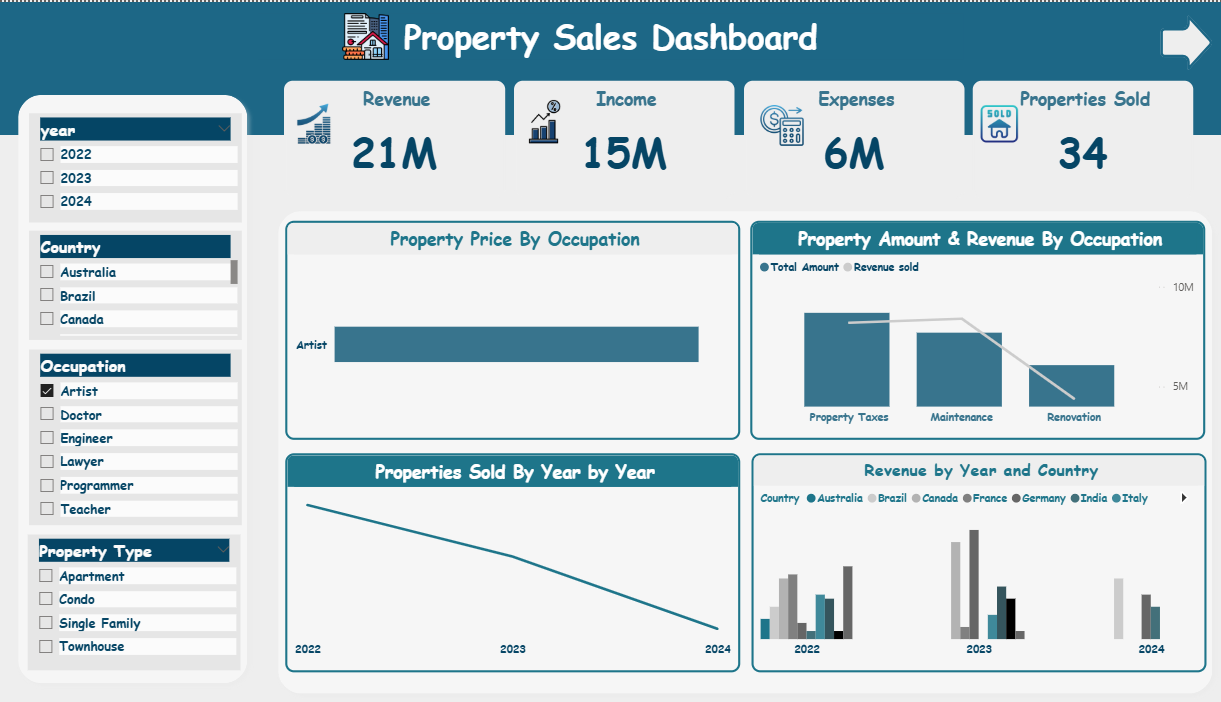

This screenshot's page, from the dashboard's own definition file:
{"tool":"powerbi","page":{"name":"Client & Property Analysis","canvas":[1400,800],"ordinal":3},"visuals":[{"type":"shape","box":[0,0,1399.5,152.2],"z":0},{"type":"textbox","title":"Property Sales Dashboard","box":[292.1,12.2,815.2,53],"z":1000},{"type":"shape","box":[309.8,230.7,1085.6,569.3],"z":2000},{"type":"lineChart","fields":{"Y":["Calculations.Properties Sold By Year"],"Category":["calender2.Date.Variation.Date Hierarchy.Year"]},"box":[327.4,516.3,520.4,250],"z":3000},{"type":"clusteredColumnChart","fields":{"Category":["calender2.Date.Variation.Date Hierarchy.Year"],"Y":["Calculations.Revenue"],"Series":["Property_Table.Country"]},"box":[860.1,516.3,520.4,250],"z":4000},{"type":"lineClusteredColumnComboChart","title":"Property Amount & Revenue By Occupation","fields":{"Y":["Calculations.Total Amount"],"Category":["Expense_Table.ExpenseType"],"Y2":["Calculations.Revenue"]},"box":[858.7,250,520.4,250],"z":5000},{"type":"barChart","title":"Property Price By Occupation","fields":{"Y":["Sum(Property_Table.Price)"],"Category":["Client_Table.Occupation"]},"box":[327.4,250,520.4,250],"z":6000},{"type":"shape","box":[12.2,96.5,279.9,690.2],"z":7000},{"type":"slicer","fields":{"Values":["Client_Table.Occupation"]},"box":[34,397.4,243.2,201.1],"z":8000},{"type":"slicer","fields":{"Values":["calender2.year"]},"box":[34.2,126.9,243.2,125],"z":9000},{"type":"slicer","fields":{"Values":["Property_Table.Country"]},"box":[34.2,262.1,243.2,125],"z":10000},{"type":"card","title":"Revenue","fields":{"Values":["Calculations.Revenue"]},"box":[326.4,89.4,252.7,134.5],"z":12000},{"type":"card","title":"Properties Sold","fields":{"Values":["Calculations.Property sold"]},"box":[1113,89.4,252,134.5],"z":13000},{"type":"card","title":"Income","fields":{"Values":["Calculations.Income"]},"box":[589.1,89.4,252,134.5],"z":14000},{"type":"card","title":"Expenses","fields":{"Values":["Calculations.Expenses"]},"box":[851.1,89.4,252,134.5],"z":15000},{"type":"image","box":[385.9,1.4,66.6,76.1],"z":16000},{"type":"image","box":[326.1,111.4,67.9,55.7],"z":17000},{"type":"image","box":[589.7,107.3,67.9,59.8],"z":18000},{"type":"image","box":[862.8,111.4,63.9,59.8],"z":19000},{"type":"image","box":[1112.8,107.3,61.1,63.9],"z":20000},{"type":"slicer","fields":{"Values":["Property_Table.Property Type"]},"box":[33.5,608.7,243.5,155.2],"z":21000},{"type":"shape","box":[1327.1,12.9,61.4,67.1],"z":22000}]}

Visuals, with their boxes in screenshot pixels (x1, y1, x2, y2), scaled from the page's 1400x800 canvas onto the 1221x702 screenshot:
shape: l=0, t=0, r=1220, b=134
"Property Sales Dashboard" textbox: l=255, t=11, r=966, b=57
shape: l=270, t=202, r=1217, b=701
lineChart - Calculations.Properties Sold By Year x calender2.Date.Variation.Date Hierarchy.Year: l=286, t=453, r=739, b=672
clusteredColumnChart - calender2.Date.Variation.Date Hierarchy.Year x Calculations.Revenue: l=750, t=453, r=1204, b=672
"Property Amount & Revenue By Occupation" lineClusteredColumnComboChart: l=749, t=219, r=1203, b=439
"Property Price By Occupation" barChart: l=286, t=219, r=739, b=439
shape: l=11, t=85, r=255, b=690
slicer - Client_Table.Occupation: l=30, t=349, r=242, b=525
slicer - calender2.year: l=30, t=111, r=242, b=221
slicer - Property_Table.Country: l=30, t=230, r=242, b=340
"Revenue" card: l=285, t=78, r=505, b=196
"Properties Sold" card: l=971, t=78, r=1190, b=196
"Income" card: l=514, t=78, r=734, b=196
"Expenses" card: l=742, t=78, r=962, b=196
image: l=337, t=1, r=395, b=68
image: l=284, t=98, r=344, b=147
image: l=514, t=94, r=574, b=147
image: l=752, t=98, r=808, b=150
image: l=971, t=94, r=1024, b=150
slicer - Property_Table.Property Type: l=29, t=534, r=242, b=670
shape: l=1157, t=11, r=1211, b=70
